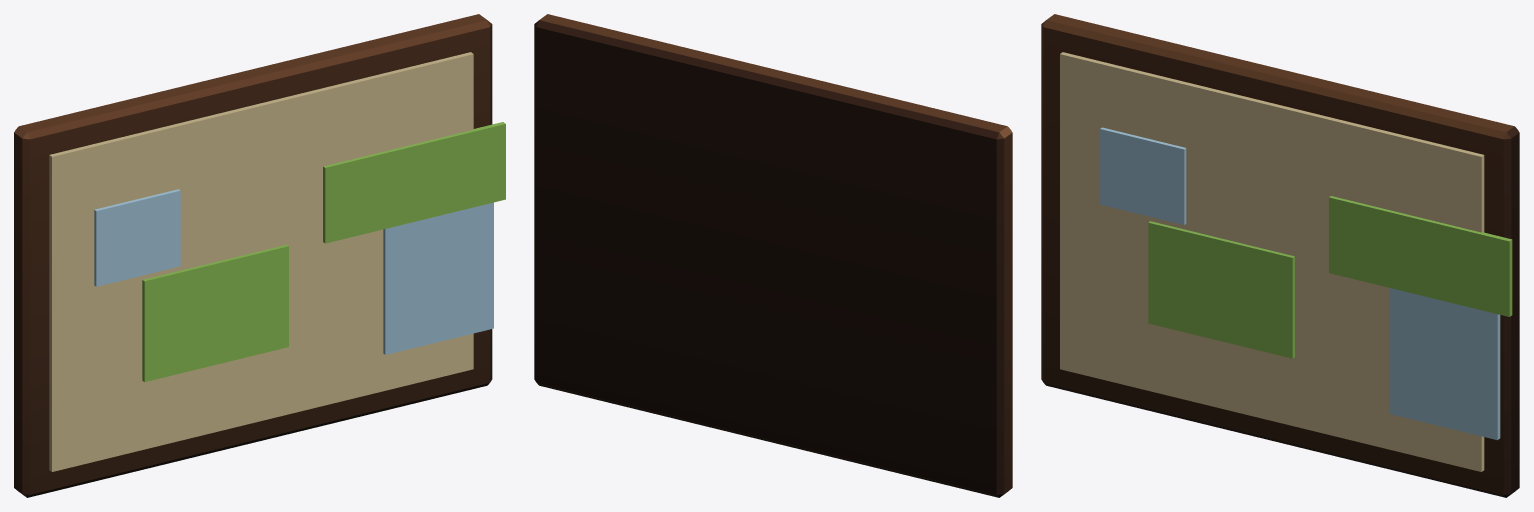
Rendered from poster_map.glb.
3 views of the same model, side by side, from view 1: azimuth 30°, elevation 25°; view 2: azimuth 150°, elevation 25°; view 3: azimuth 330°, elevation 25° (orthographic).
Parts seen in each view (by area): view 1: poster_map; view 2: poster_map; view 3: poster_map.
Part boxes in pixels (<box>): poster_map: <box>14,14,505,497</box>; poster_map: <box>534,14,1012,497</box>; poster_map: <box>1041,14,1519,497</box>.
Bounding box in the file's own units: 0.79 × 0.58 × 0.054.
